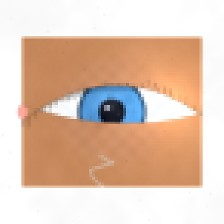foreign_body_visible: (71, 122, 120, 161)
